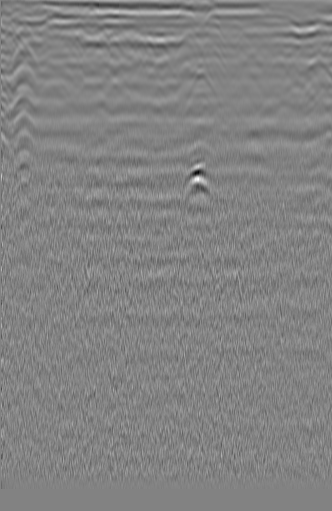가스: (173, 158, 214, 199)
상수: (279, 38, 312, 65)
오수: (6, 40, 41, 76)
우수: (128, 32, 156, 64)
